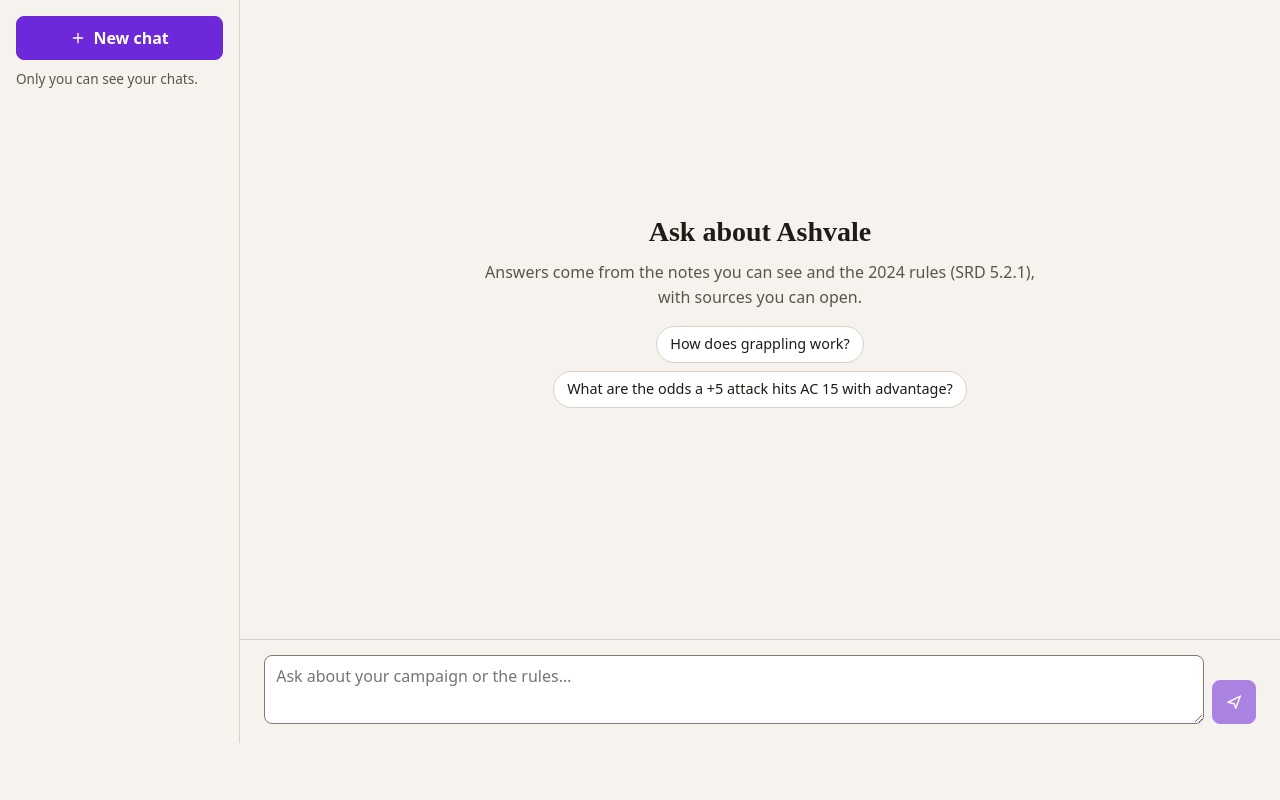
Test: ChatPage › keeps the first question of a new chat and shows the cited answer
Type "Who is Elara?" into the text box named "Your question". click: x=734, y=689
box: 264,655 -> 1204,724
Then press Enter
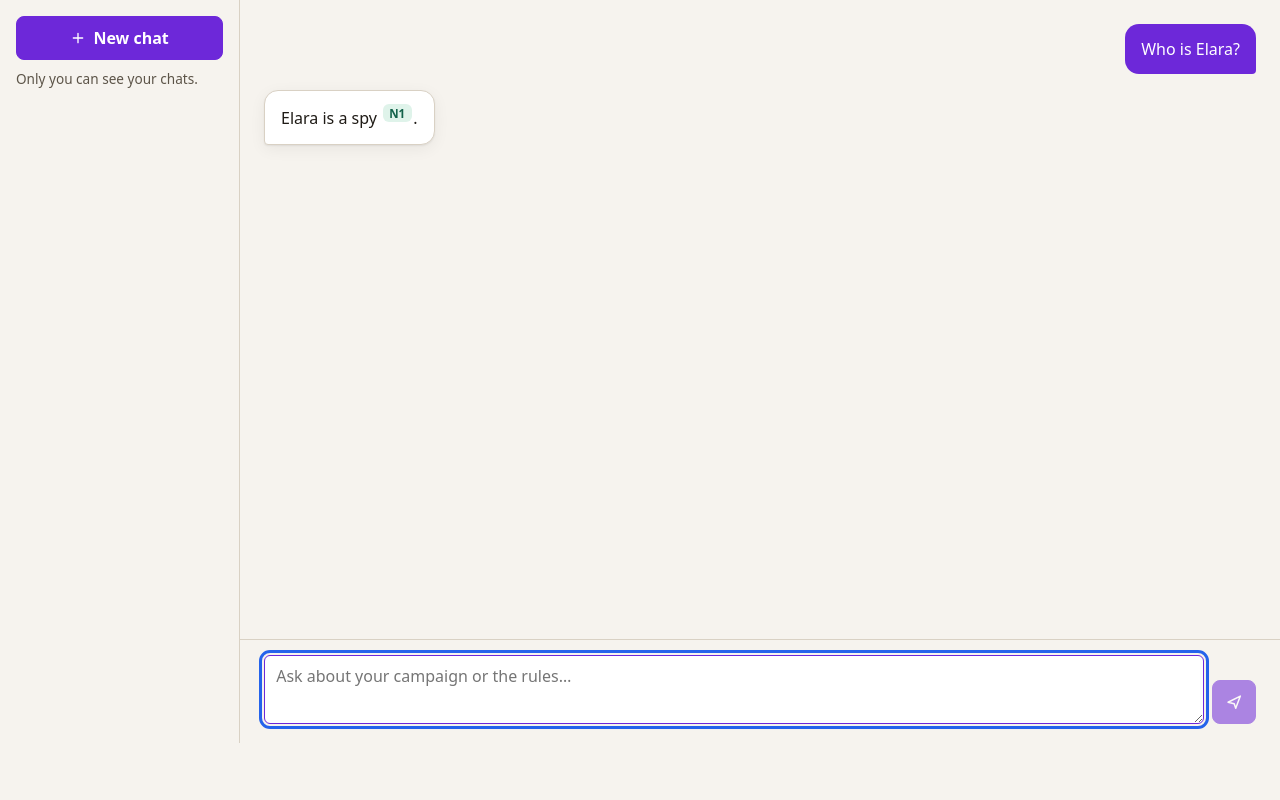
Check: the button named "N1: Lore › NPC › Elara" is shown, box 383,104 -> 412,122
Check: the text "Who is Elara?" is shown, box 1141,37 -> 1240,62
